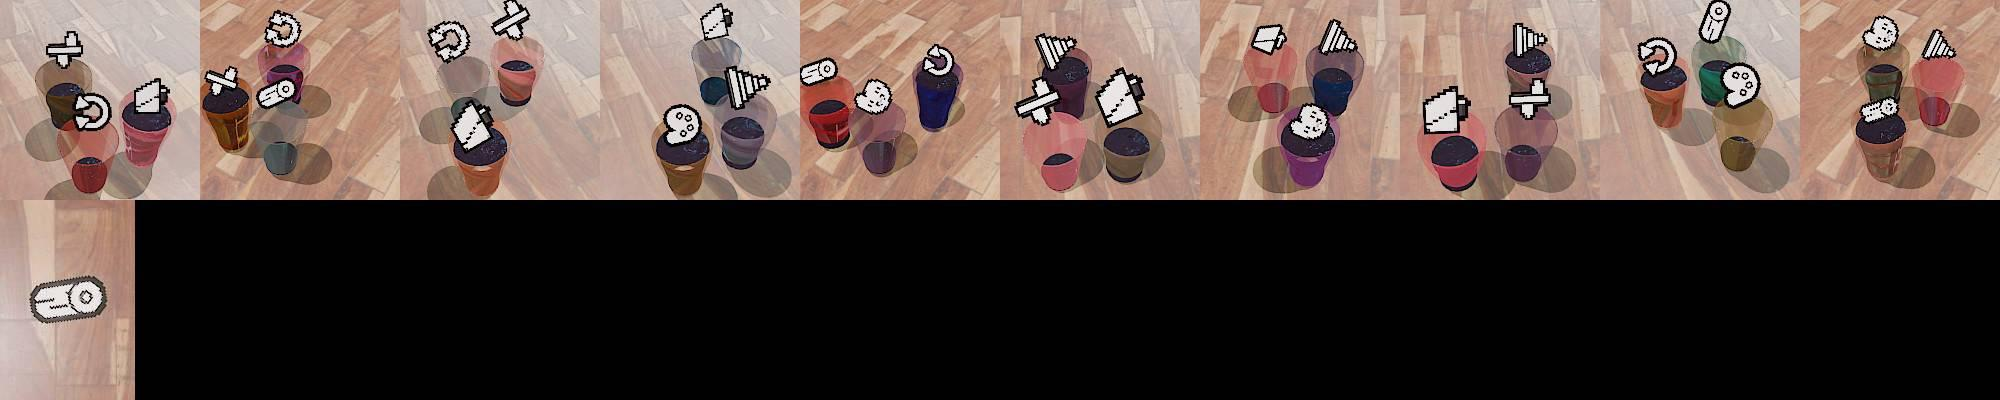icon: (24, 270, 114, 324), (1094, 66, 1145, 127), (1422, 84, 1471, 136), (452, 98, 494, 152), (723, 64, 772, 110), (1014, 78, 1060, 125), (427, 19, 469, 65), (1508, 75, 1552, 117), (661, 101, 703, 144), (1721, 62, 1760, 108), (490, 0, 532, 42), (1636, 37, 1677, 78), (71, 90, 112, 131), (45, 29, 85, 69), (1034, 33, 1077, 71), (853, 78, 894, 116), (1316, 18, 1357, 56), (1698, 0, 1732, 45), (264, 10, 302, 50), (1509, 22, 1547, 60), (131, 75, 168, 115), (1291, 102, 1330, 139), (1862, 15, 1901, 52), (256, 76, 297, 110), (699, 3, 733, 41), (204, 65, 240, 101), (1920, 28, 1958, 61), (1858, 97, 1902, 125), (1251, 23, 1288, 55), (800, 57, 838, 87), (923, 43, 955, 78)
